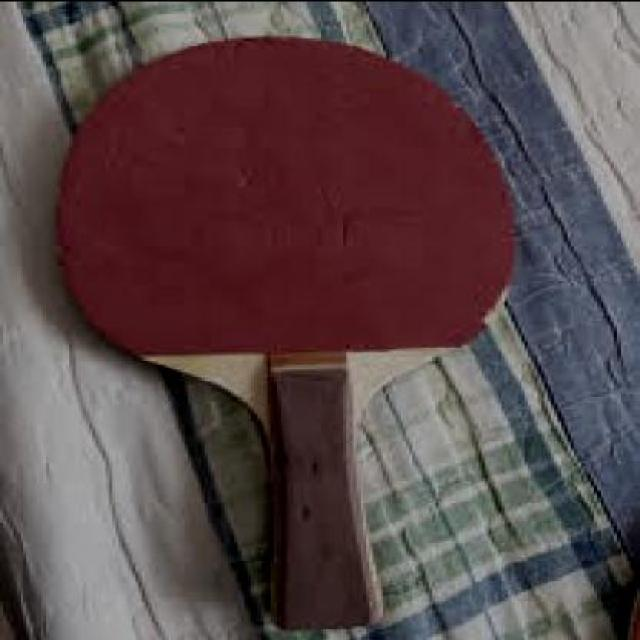table_tennis_racket: (57, 38, 517, 640)
